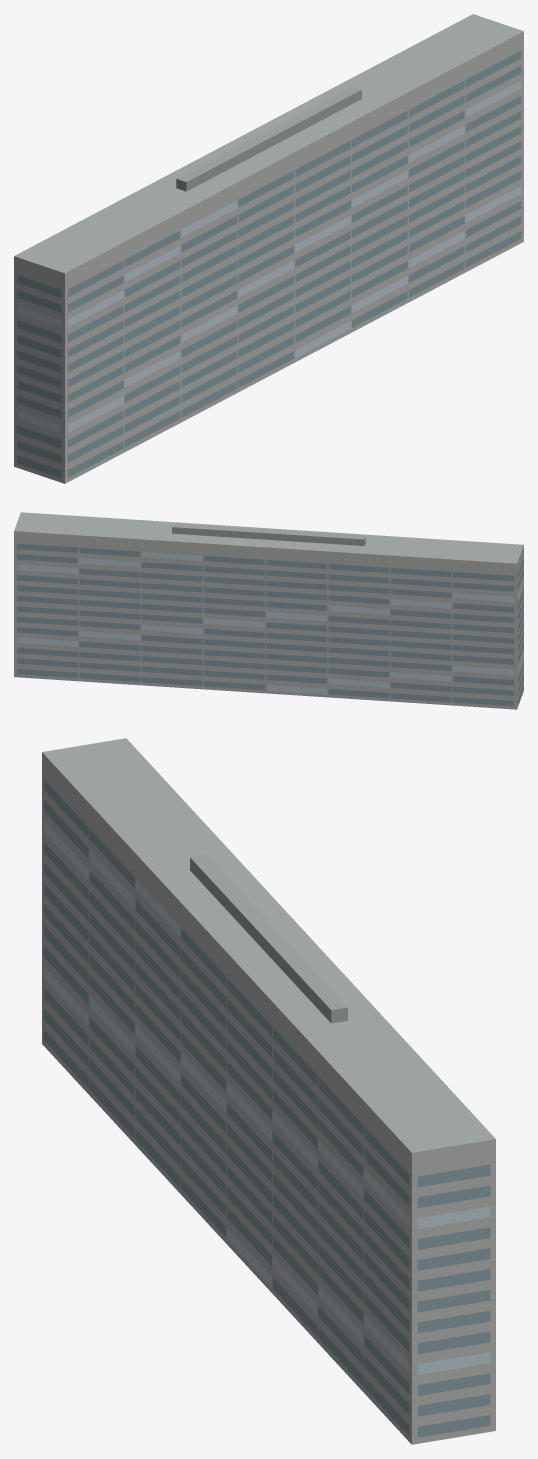
Rendered from fallback-daechi-eunma-8.glb.
3 views of the same model, one above another, from view 1: azimuth 30°, elevation 25°; view 2: azimuth 150°, elevation 25°; view 3: azimuth 270°, elevation 25° (orthographic). The views are drawn at different scales.
Visible parts, largest first — view 1: fallback-daechi-eunma-8; view 2: fallback-daechi-eunma-8; view 3: fallback-daechi-eunma-8.
Part boxes in pixels (left/top/right/bottom): fallback-daechi-eunma-8: left=14, top=14, right=523, bottom=483; fallback-daechi-eunma-8: left=14, top=512, right=523, bottom=709; fallback-daechi-eunma-8: left=42, top=738, right=495, bottom=1444.
Bounding box in the file's own units: 130 × 44.62 × 60.18.
